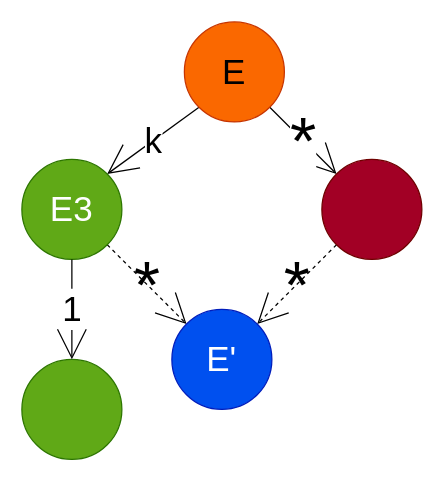
Image size: 444x481. Some labels were removed from this diagram. Each missing label, with the centre of its shape:
"E1" belongs at point 71,408.
"E2" belongs at point 371,208.
